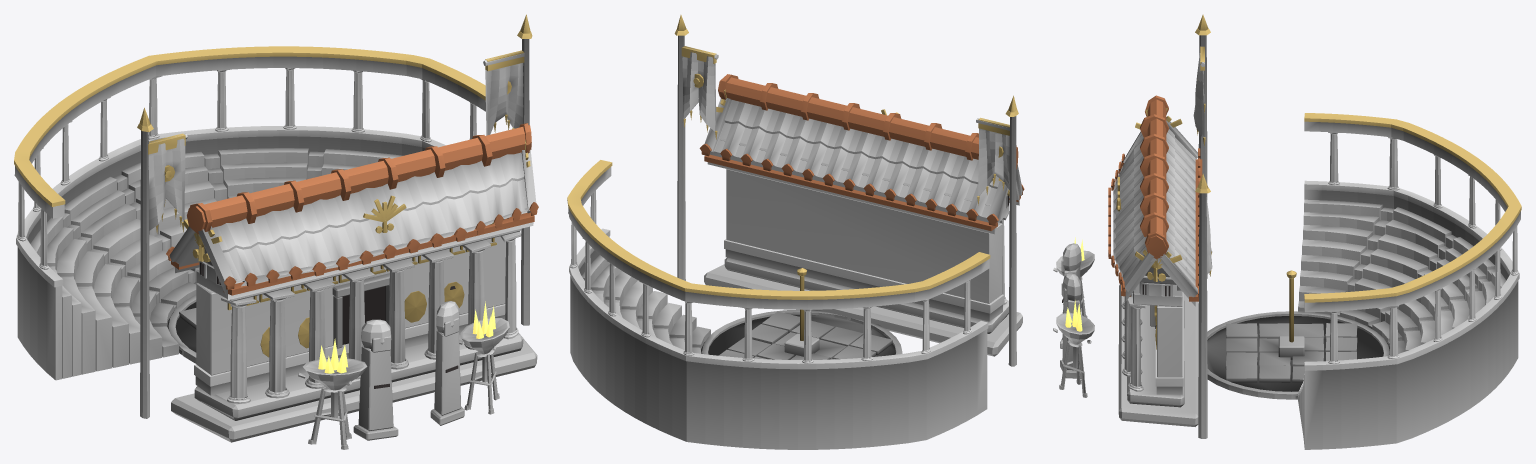
The model's file is hall-of-rhapsodes-l3.glb.
The picture shows the model from 3 angles, left to right: view 1: azimuth 30°, elevation 25°; view 2: azimuth 150°, elevation 25°; view 3: azimuth 270°, elevation 25°; orthographic projection. The views are drawn at different scales.
Visible parts, largest first — view 1: hall-of-rhapsodes-l3; view 2: hall-of-rhapsodes-l3; view 3: hall-of-rhapsodes-l3.
Boxes of the visible parts, x1,y1,x2,y2 form: hall-of-rhapsodes-l3: (14,14,538,449); hall-of-rhapsodes-l3: (567,15,1024,449); hall-of-rhapsodes-l3: (1053,14,1521,449).
Bounding box in the file's own units: 1.61 × 1.07 × 1.71.
